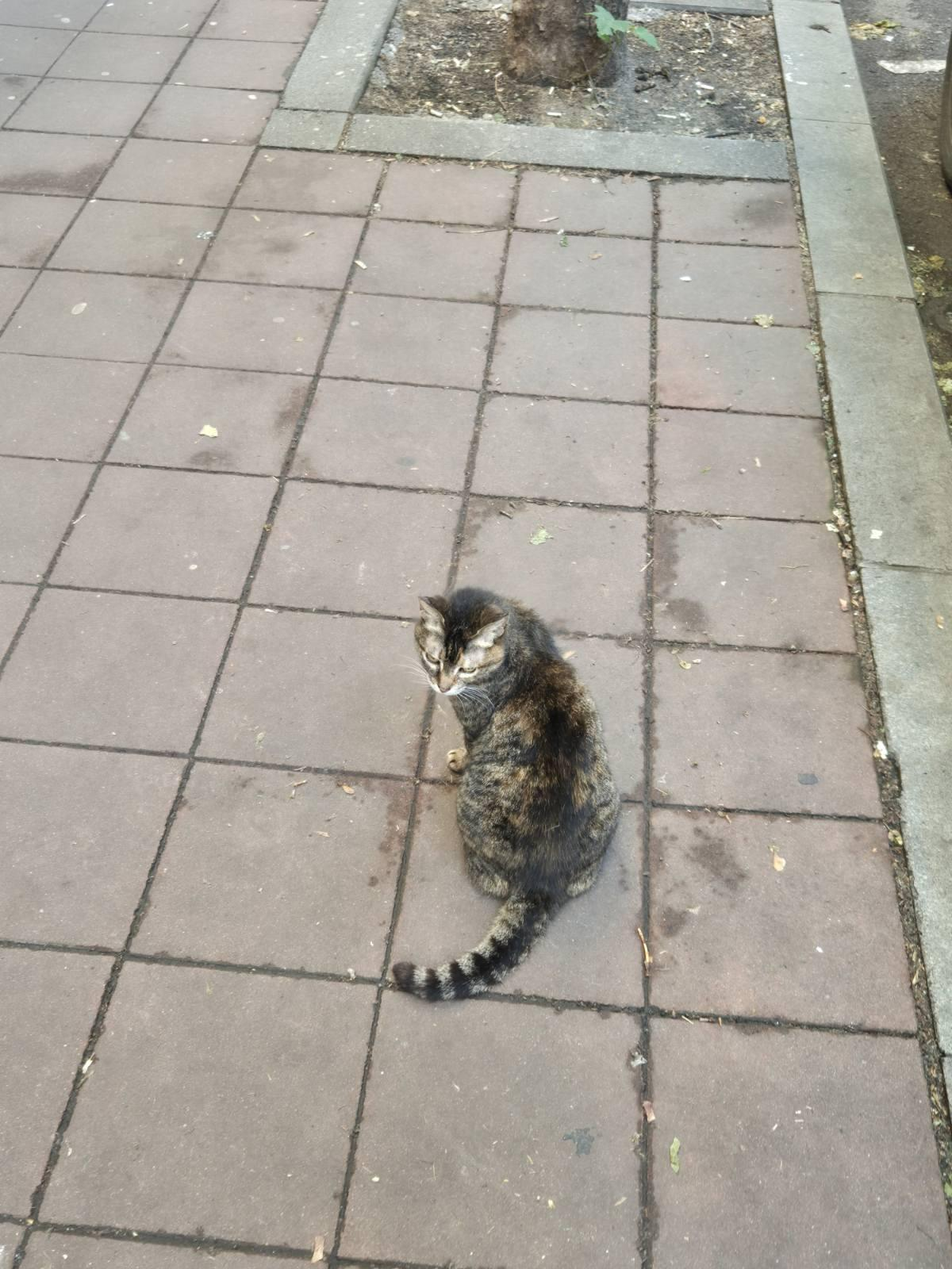macka: (391, 586, 616, 1003)
